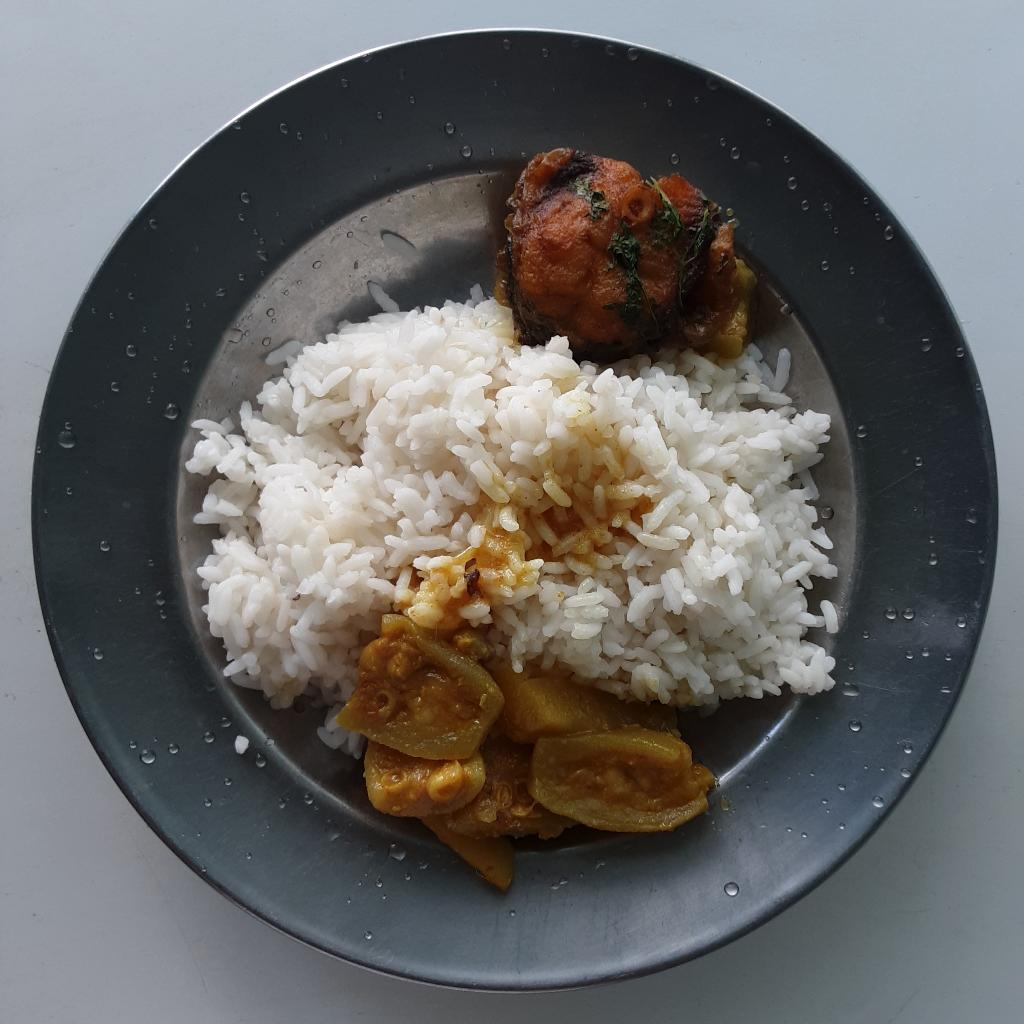fish: (483, 145, 758, 368)
potato: (494, 673, 663, 740)
potol: (355, 618, 715, 903)
rice: (179, 266, 837, 703)
